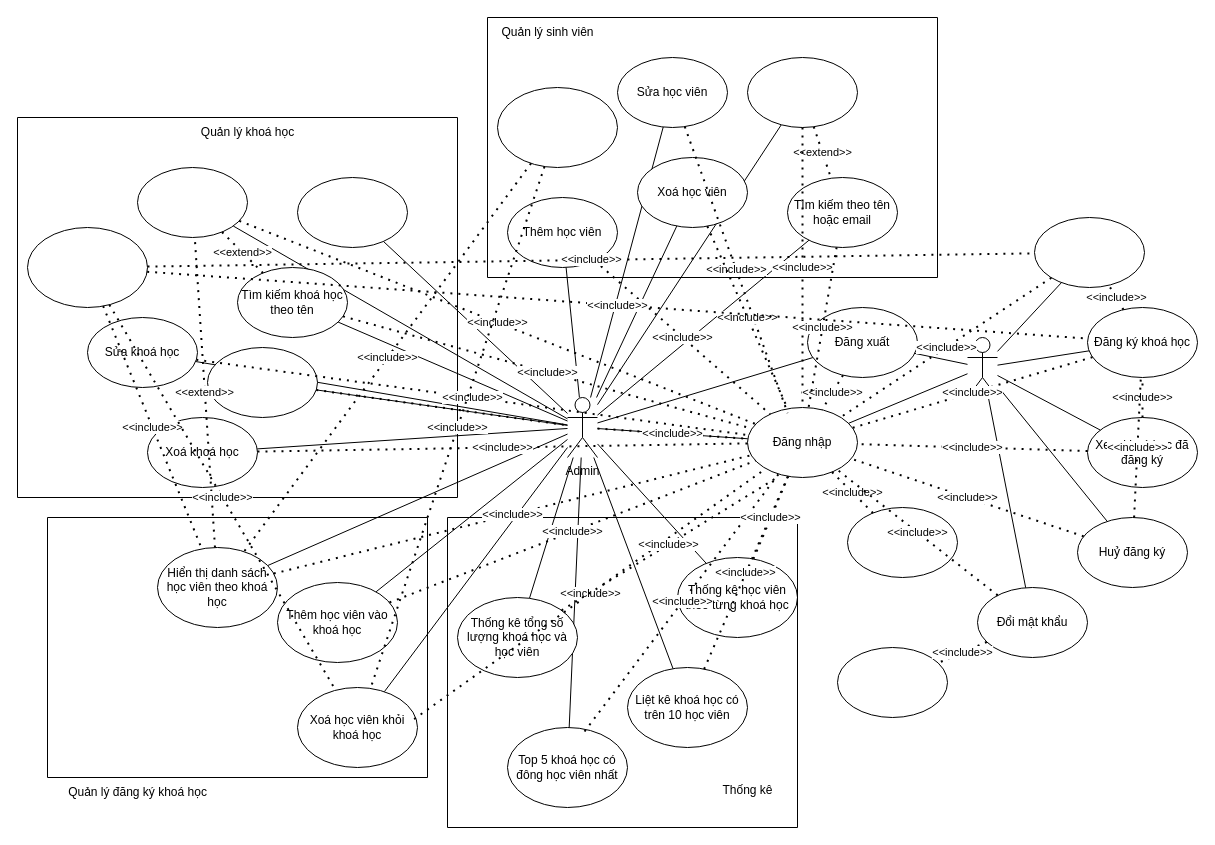
The diagram is 1215 pixels wide and 845 high, and some of its shapes have lost their labels. The shapes that lost their labels are listed below. From the top down, each one's centre as x and y in pixels, then its label:
At (802,92): "Hiển thị danh sách học viên".
At (557,127): "Học viên có tồn tại".
At (192,202): "Hiển thị danh sách khoá học".
At (352,212): "Thêm khoá học".
At (87,267): "Khoá học có tồn tại".
At (1089,252): "Xem danh sách khoá học".
At (262,382): "Sắp xếp khoá học theo tên, thời lượng".
At (982,367): "Học viên".
At (902,542): "Xác thực tài khoản".
At (892,682): "Xác thực mật khẩu cũ".
